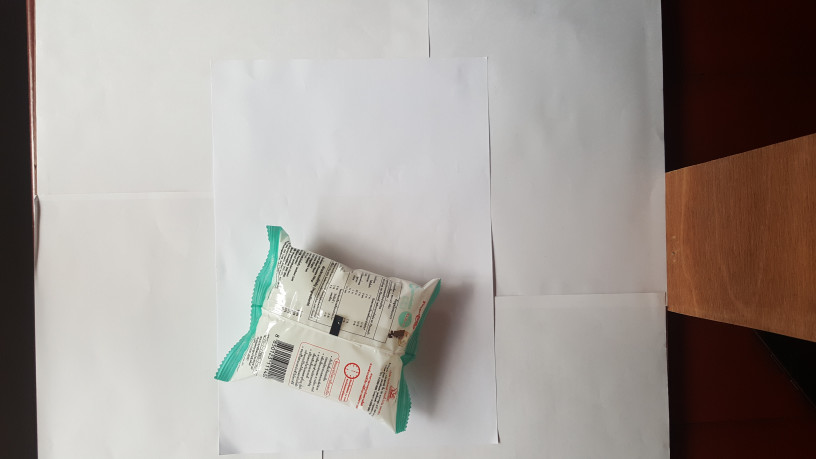farmhouse-sweetsandwich-chocolate: (211, 223, 445, 433)
